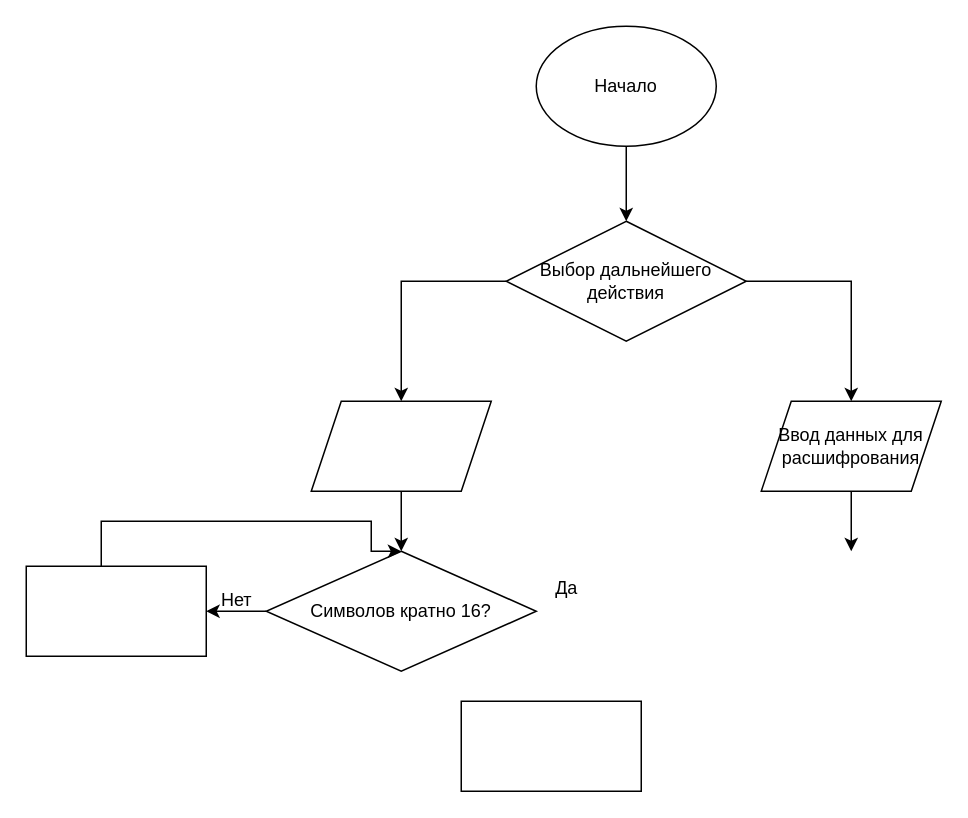
The diagram is 968 pixels wide and 818 high, and some of its shapes have lost their labels. Each missing label, with the centre of its shape:
Ввод данных для шифрования: (x=400, y=445)
Добавляем в начало случайный символ: (x=115, y=610)
